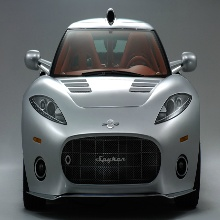no damage: (19, 8, 203, 213)
